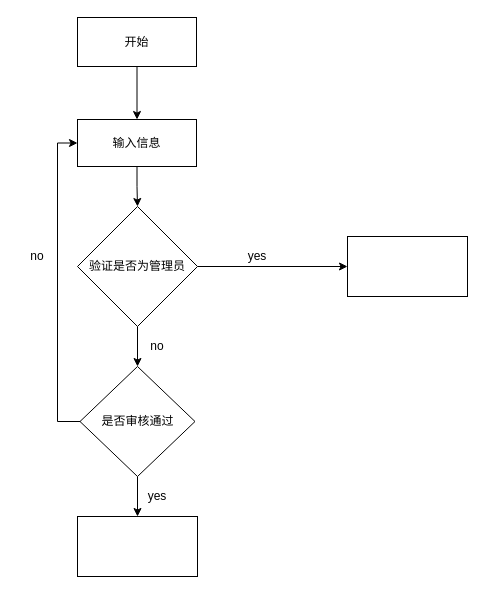
This 485x594 diagram has some shape labels left out. Here are the shapes that lost their labels. From the top down, the centre of each, then its label:
(407,266): 转到管理员页面
(137,546): 转到普通用户页面
